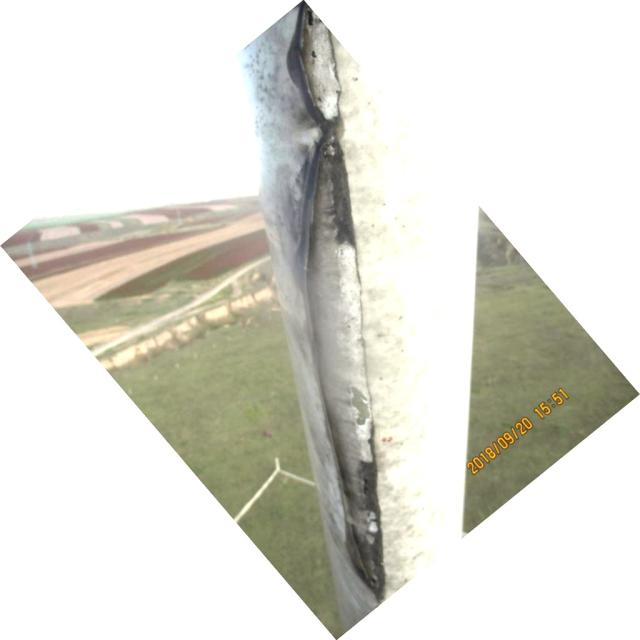crack: (308, 379, 388, 590), (300, 139, 372, 363), (287, 12, 351, 130)
